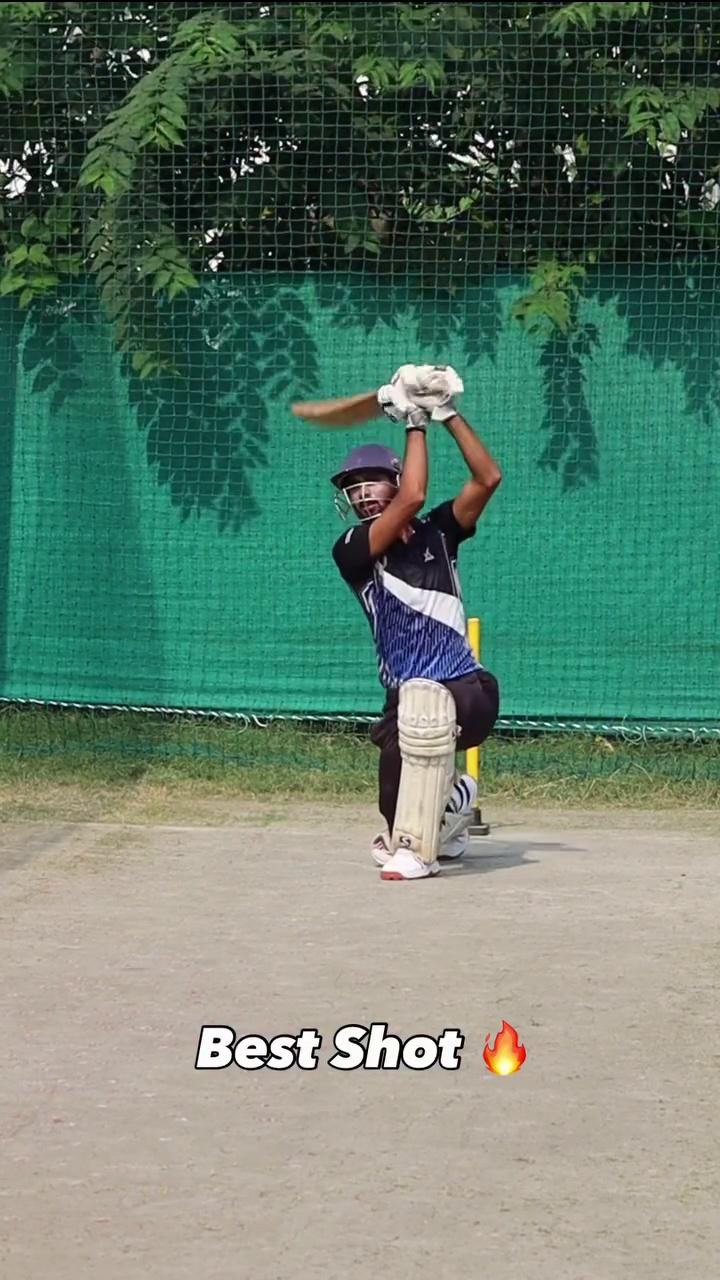bat: (287, 383, 387, 437)
